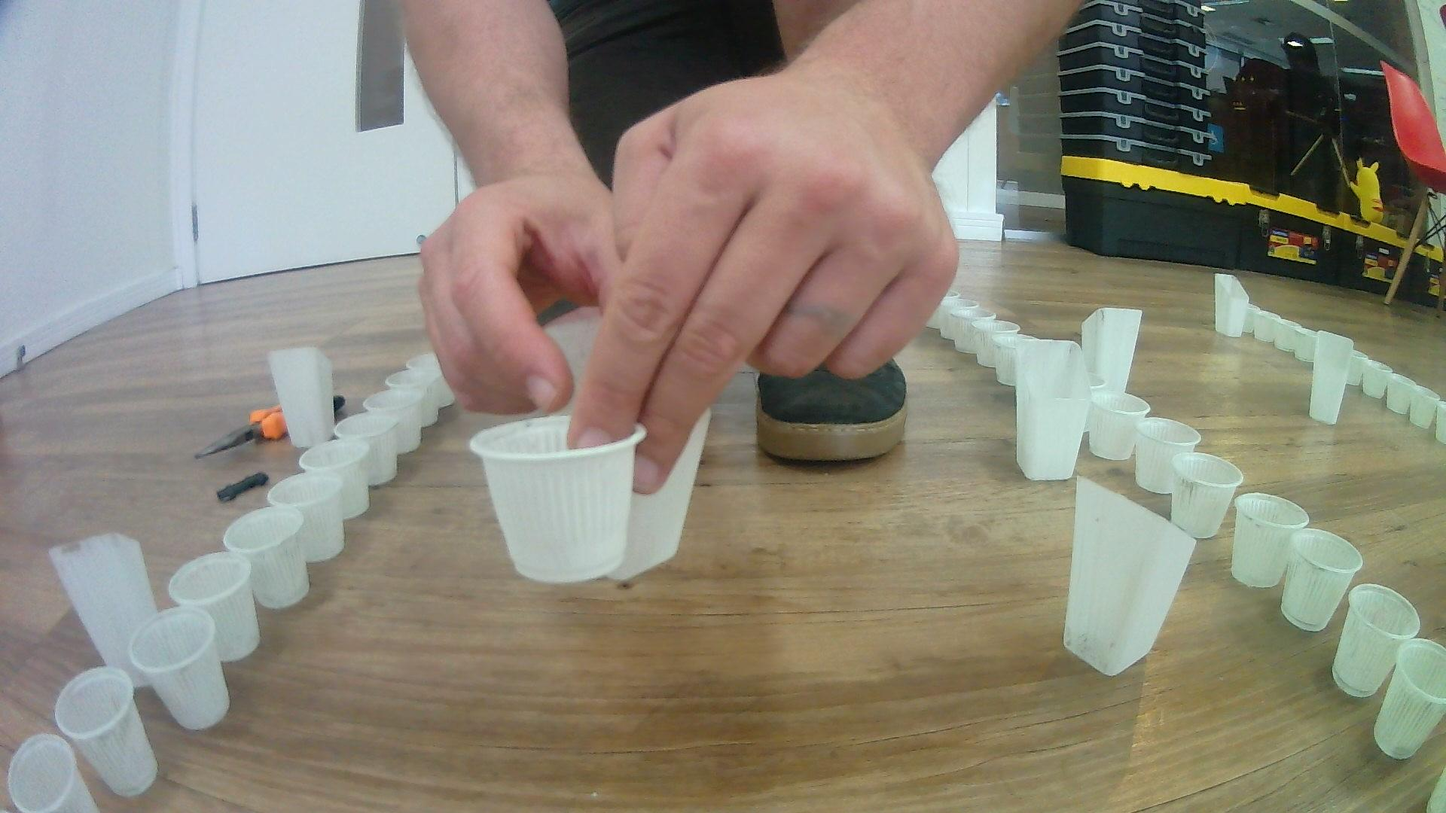erva_daninha: (541, 306, 712, 583), (1062, 475, 1196, 677), (47, 532, 159, 684), (1011, 338, 1093, 481), (267, 345, 336, 449), (1078, 306, 1145, 398), (1308, 330, 1358, 425), (1213, 273, 1250, 338)
planta: (468, 413, 648, 585), (53, 667, 157, 798), (127, 604, 232, 731), (167, 550, 260, 663), (1331, 583, 1421, 697), (223, 503, 310, 610), (1373, 639, 1446, 760), (1280, 528, 1364, 632), (5, 729, 103, 813), (1230, 490, 1310, 589), (267, 472, 345, 565), (1170, 452, 1244, 539), (300, 435, 371, 521), (1133, 417, 1200, 495), (334, 412, 398, 486), (1088, 391, 1152, 461), (362, 386, 424, 453), (384, 370, 441, 428), (405, 353, 456, 410), (992, 333, 1039, 386), (972, 319, 1020, 367), (954, 309, 996, 354), (938, 298, 981, 340), (1408, 386, 1441, 428), (926, 291, 961, 329), (1385, 373, 1415, 414), (1363, 361, 1393, 400), (1292, 327, 1321, 362), (1254, 310, 1283, 344), (1347, 349, 1371, 390), (1273, 320, 1301, 352), (1245, 305, 1265, 339), (1433, 400, 1446, 445)
